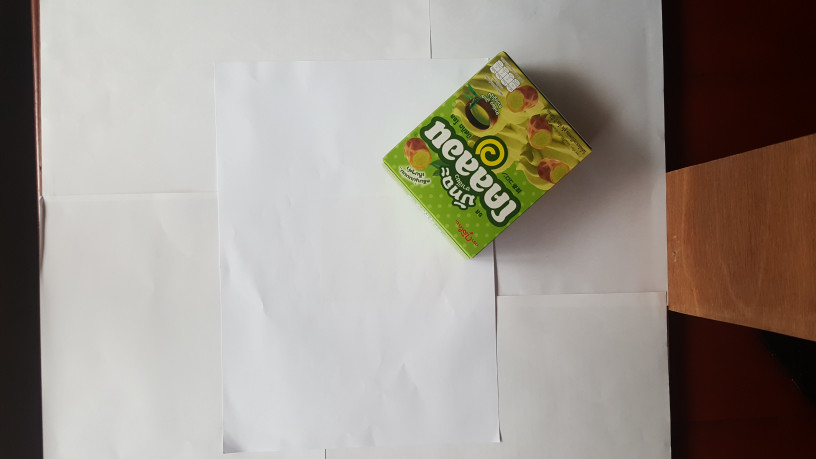collon-matcha: (382, 51, 594, 262)
